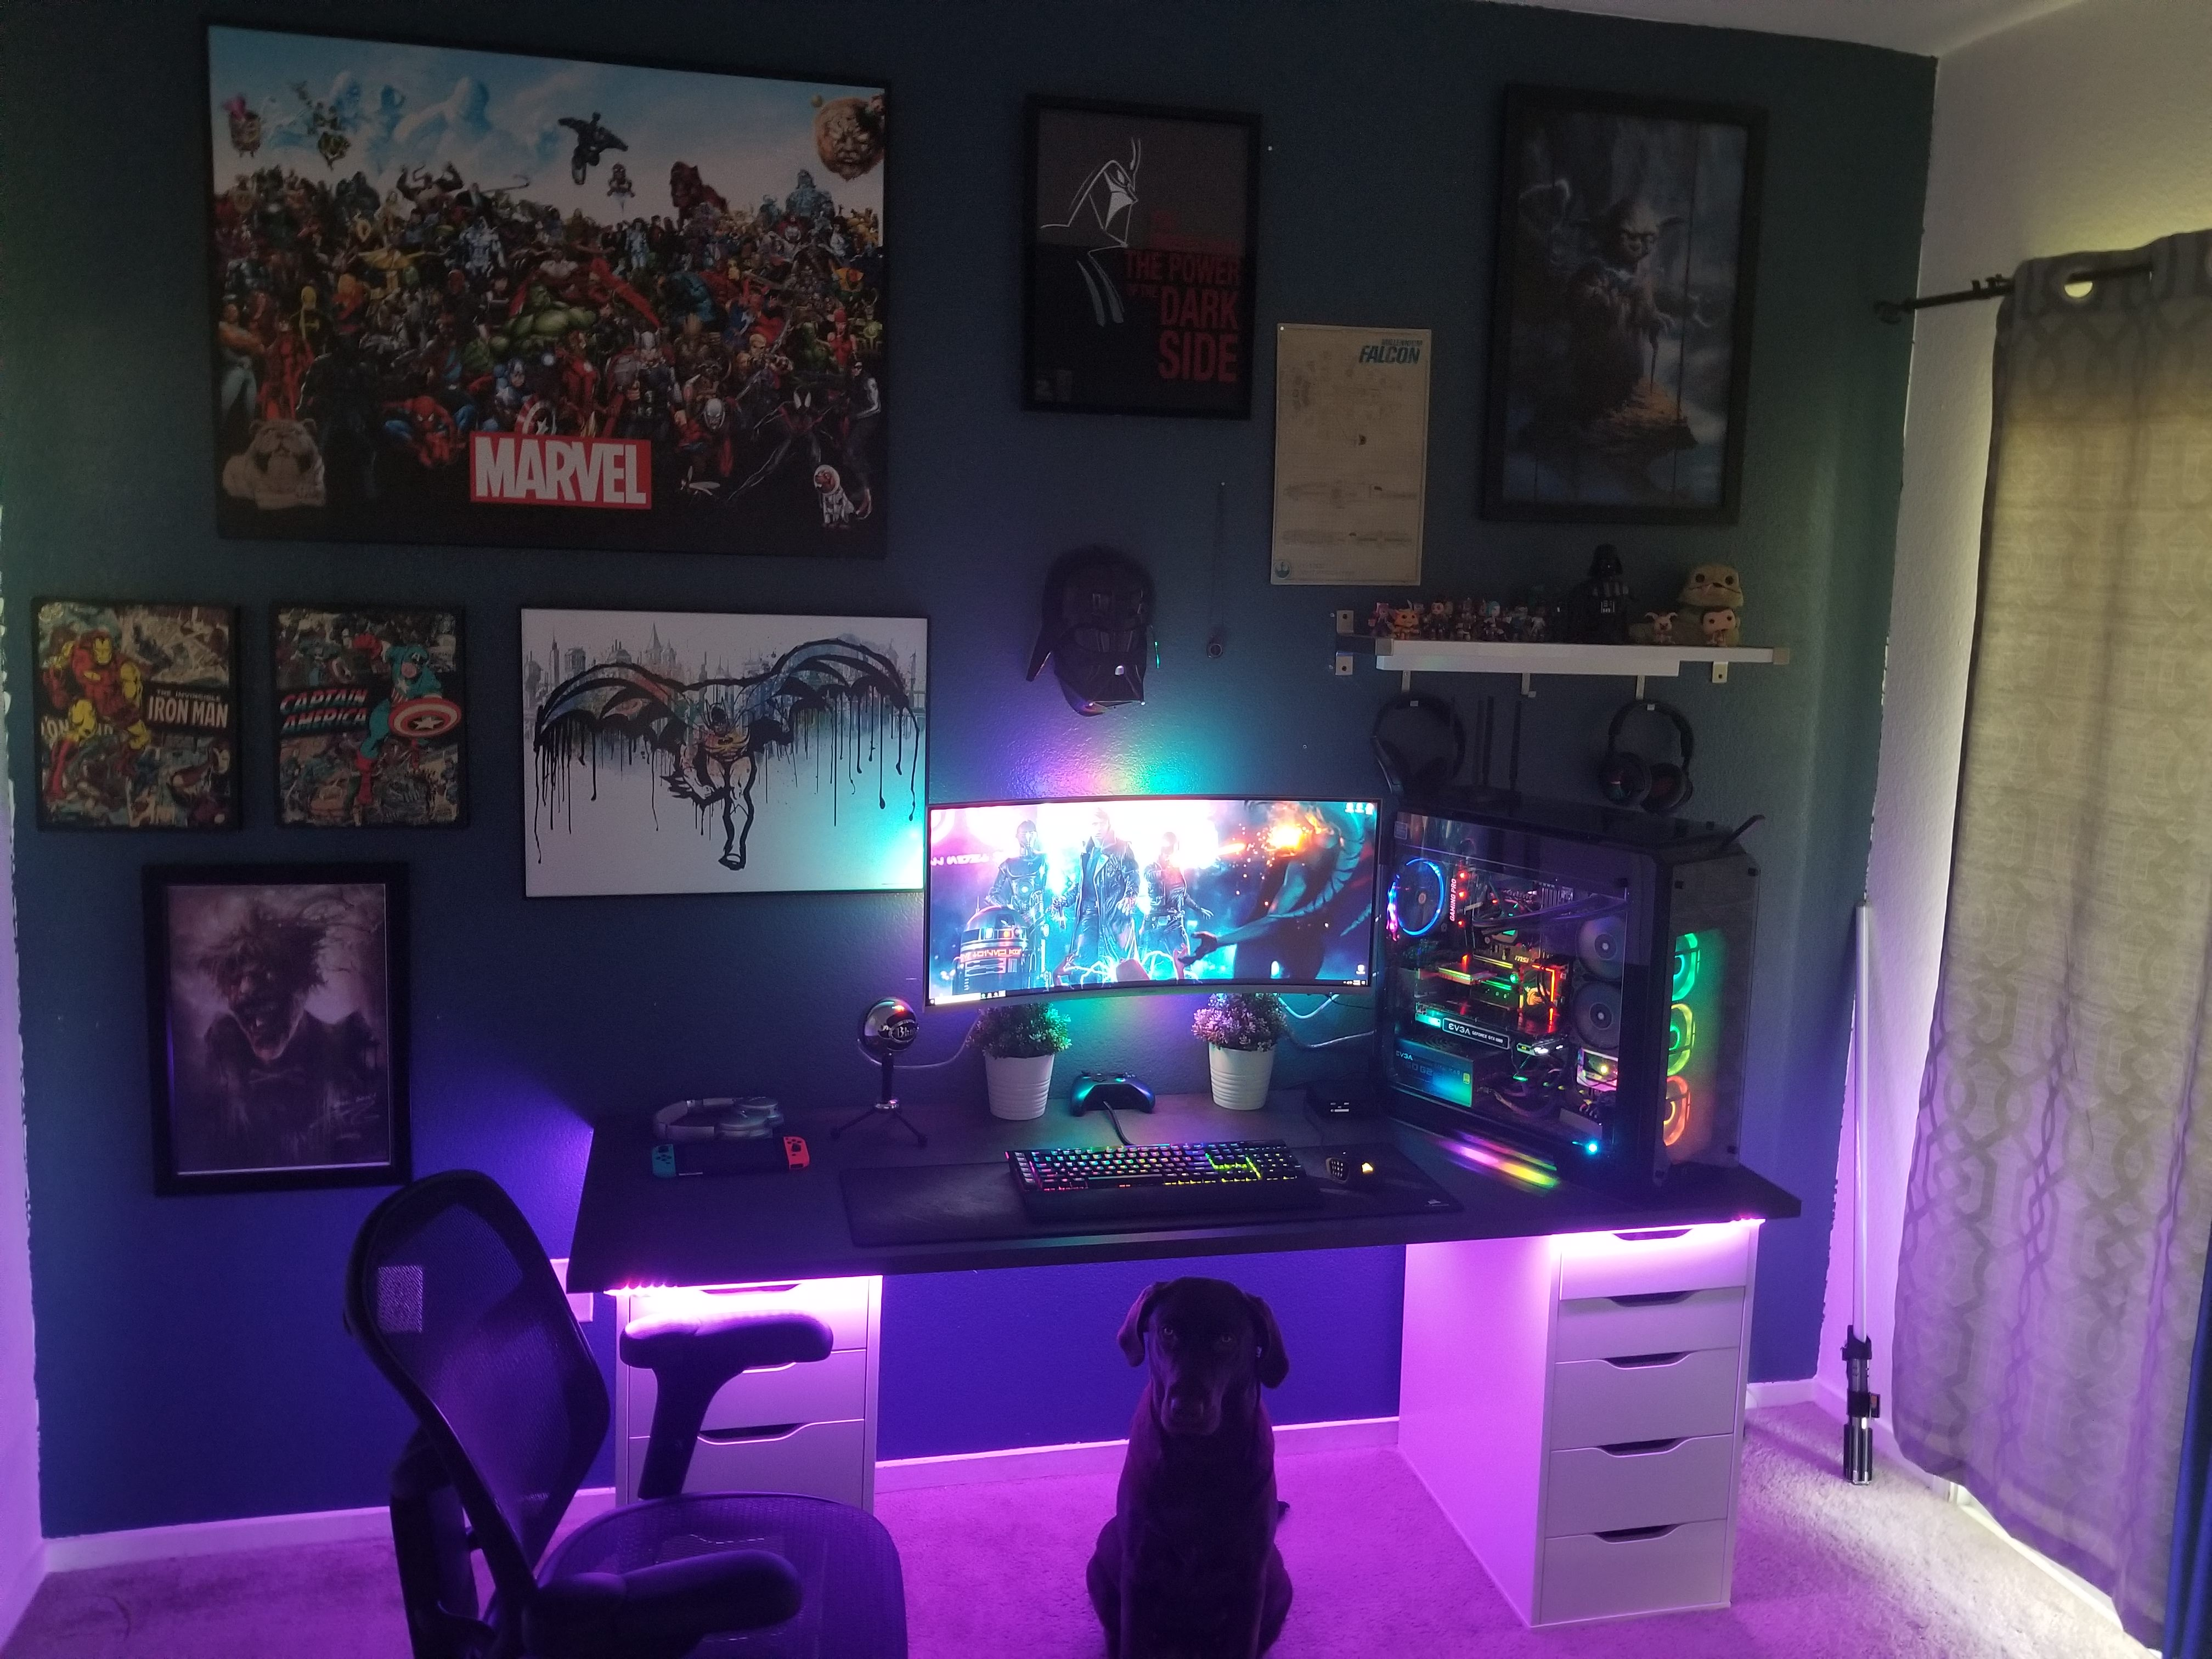Chair (Generic): (319, 1175, 920, 1647)
Decoration (Generic): (1029, 544, 1176, 714), (1207, 479, 1240, 673)
Decoration (Miniature): (1364, 552, 1757, 643)
Decoration (Picture): (199, 16, 892, 563), (1479, 91, 1777, 538), (514, 601, 923, 906), (143, 863, 401, 1187), (1028, 96, 1259, 425), (35, 598, 240, 830), (273, 608, 467, 823), (1287, 321, 1432, 579)
Decoration (Plant): (970, 993, 1069, 1131), (1184, 993, 1294, 1115)
Desk (Generic): (573, 1084, 1778, 1624)
Desktop (Windows): (1393, 793, 1742, 1168)
External Microphone (Generic): (838, 995, 935, 1152)
Gaming Console: (618, 1129, 815, 1169)
Gaming Controller: (1064, 1066, 1165, 1119)
Headphones: (1599, 697, 1737, 810), (1362, 695, 1465, 791), (632, 1077, 794, 1136)
Keyboard (Gaming): (1007, 1148, 1303, 1213)
Monitor (Landscape): (925, 793, 1390, 1009)
Mouse (Gaming): (1312, 1141, 1379, 1202)
Mousepad (Gaming): (838, 1131, 1461, 1251)
Storage Drawer: (1406, 1230, 1730, 1614), (603, 1274, 895, 1554)
